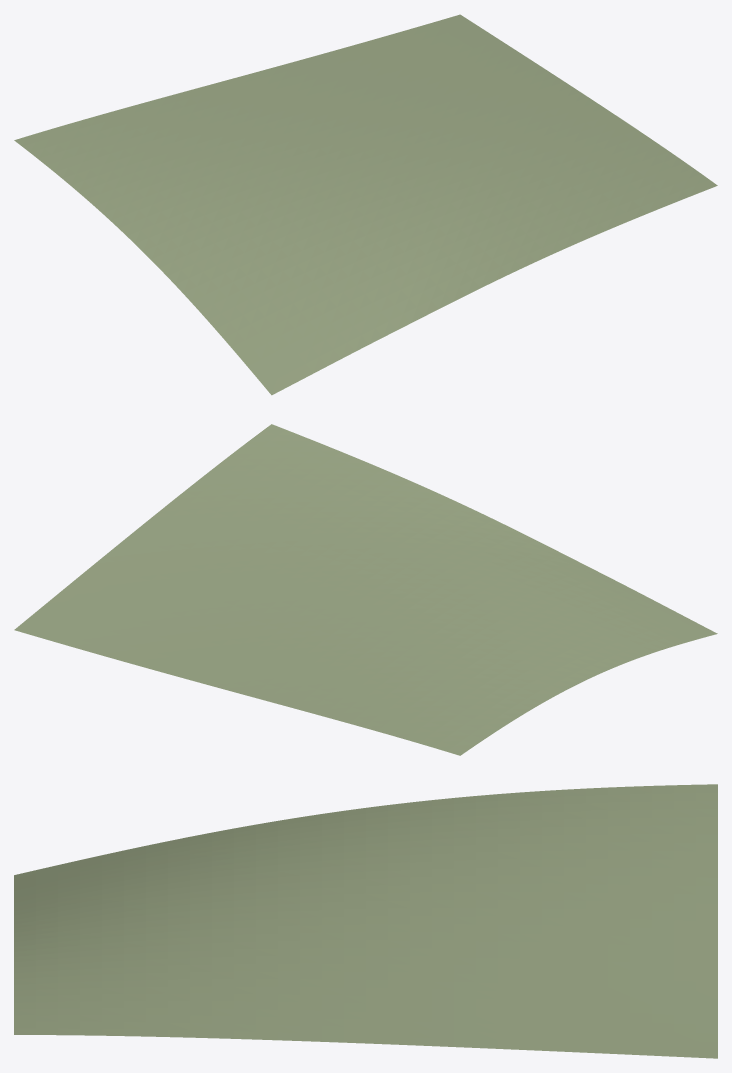
File: expanse-15-15.glb
3 renders of one model, top to bottom at view 1: azimuth 30°, elevation 25°; view 2: azimuth 150°, elevation 25°; view 3: azimuth 270°, elevation 25°, orthographic. The views are drawn at different scales.
Visible parts, largest first — view 1: expanse-15-15; view 2: expanse-15-15; view 3: expanse-15-15.
Part boxes in pixels (bbox=[...]): expanse-15-15: bbox=[14, 14, 717, 395]; expanse-15-15: bbox=[14, 424, 717, 755]; expanse-15-15: bbox=[14, 784, 717, 1058].
Bounding box in the file's own units: 256 × 55.3 × 256.
